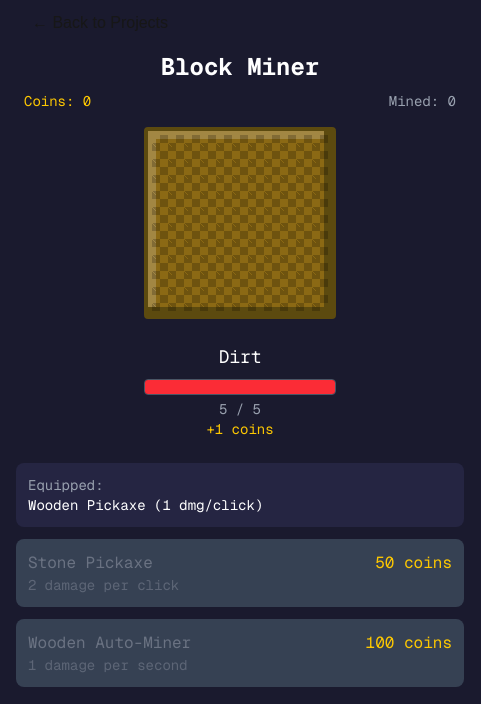
Test: BlockMinerPage › earns coins when a block is destroyed
The image size is (481, 704).
Click the element with class "cursor-pointer": click(240, 223) [144,127,336,319]
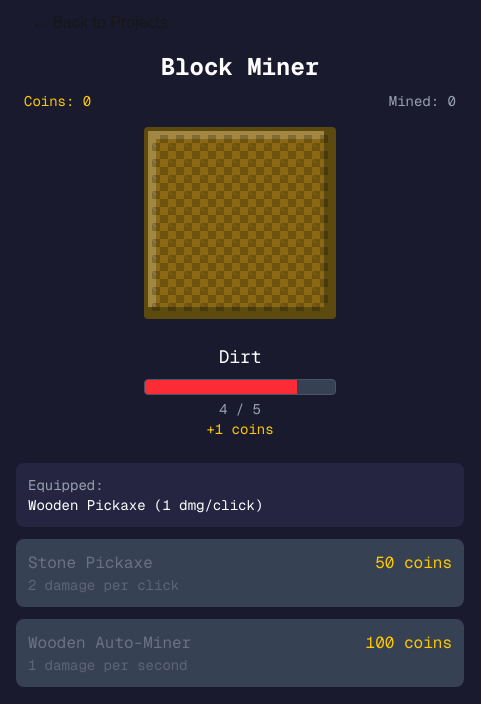
Click the element with class "cursor-pointer": click(240, 223) [144,127,336,319]
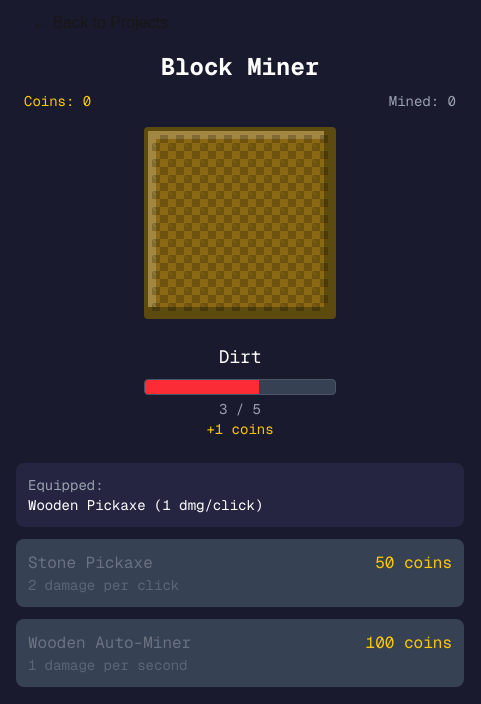
Click the element with class "cursor-pointer": click(240, 223) [144,127,336,319]
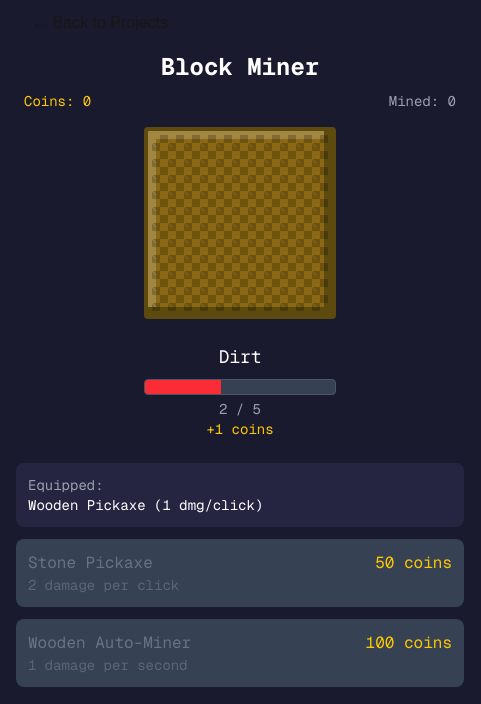
Click the element with class "cursor-pointer": click(240, 223) [144,127,336,319]
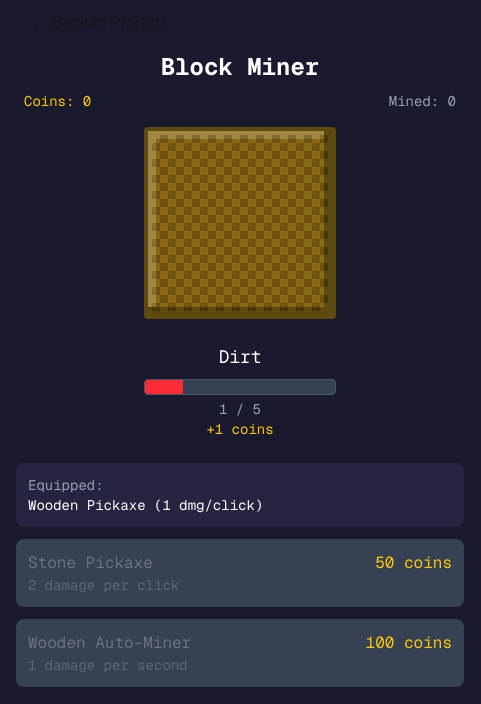
Click the element with class "cursor-pointer": click(240, 223) [144,127,336,319]
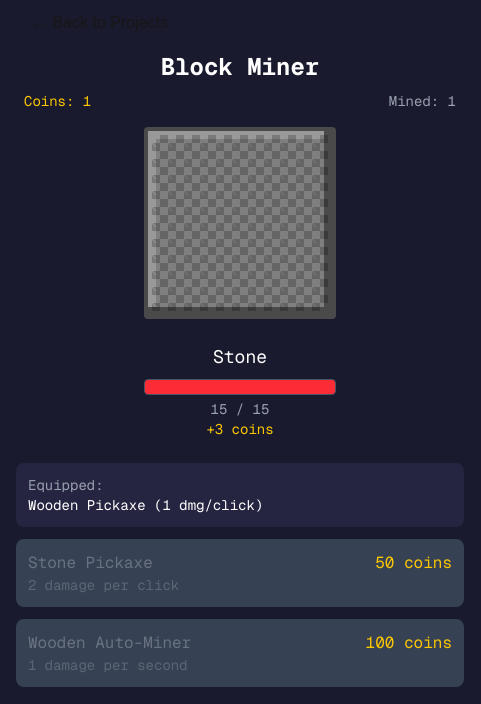
Expected: the text "Coins: 1" is shown, [24,91,91,111]
Expected: the text "Mined: 1" is shown, [389,91,456,111]
